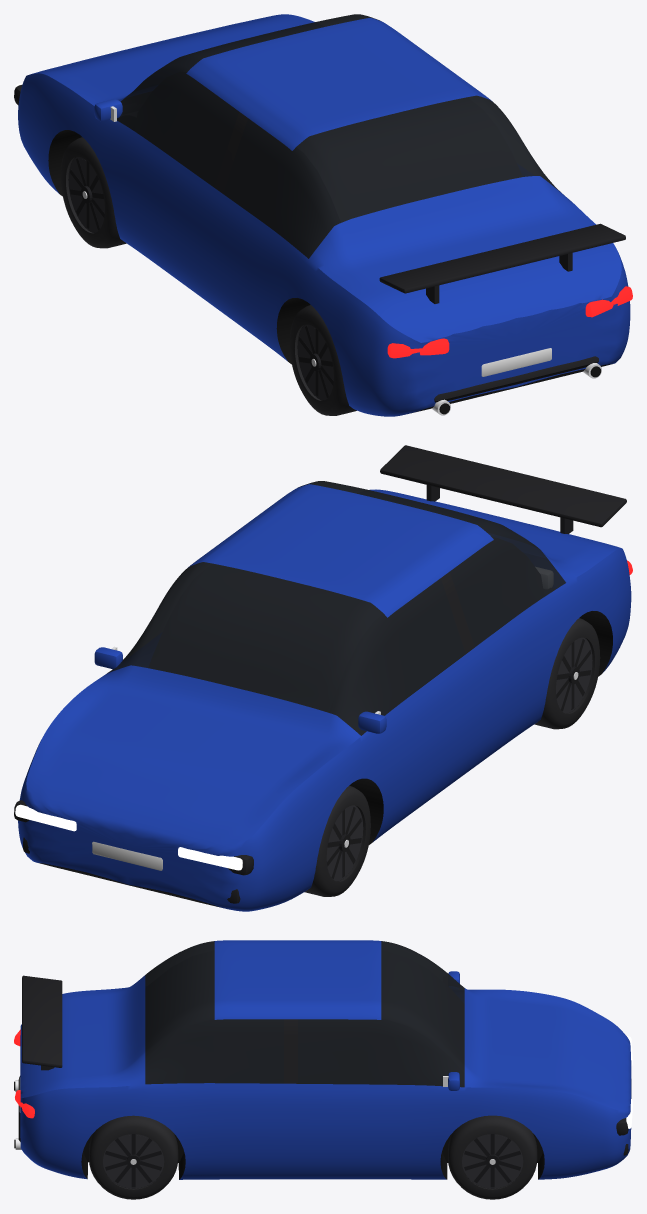
File: mitsubishi_lancer_evo.glb
3 views of the same model, one above another, from view 1: azimuth 30°, elevation 25°; view 2: azimuth 150°, elevation 25°; view 3: azimuth 270°, elevation 25° (orthographic). The views are drawn at different scales.
Parts seen in each view (by area): view 1: Body, Wheel_FL, Wheel_RL; view 2: Body, Wheel_FL, Wheel_RL; view 3: Body, Wheel_FR, Wheel_RR.
Part boxes in pixels (x1,y1,x2,y2): Body: [14, 14, 632, 416]; Wheel_FL: [60, 137, 126, 248]; Wheel_RL: [289, 305, 356, 415]; Body: [14, 445, 632, 911]; Wheel_FL: [304, 785, 370, 896]; Wheel_RL: [534, 618, 600, 729]; Body: [14, 940, 632, 1179]; Wheel_FR: [448, 1115, 537, 1199]; Wheel_RR: [89, 1115, 178, 1199].
Size of the model in its own units: 1.92 by 1.48 by 4.57.
